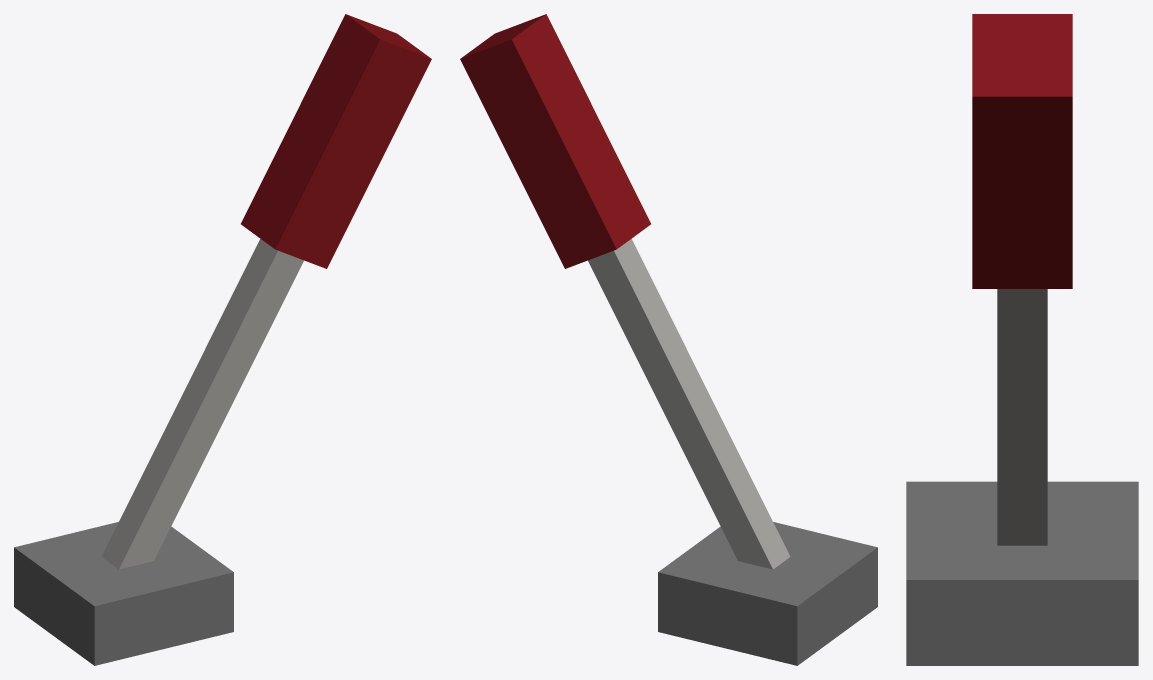
File: schalter01.fbx
3 renders of one model, left to right at view 1: azimuth 30°, elevation 25°; view 2: azimuth 150°, elevation 25°; view 3: azimuth 270°, elevation 25°, orthographic. The views are drawn at different scales.
Parts seen in each view (by area): view 1: animation, Cube.001; view 2: animation, Cube.001; view 3: animation, Cube.001.
Part boxes in pixels (left/top/right/bottom): animation: left=101, top=14, right=431, bottom=569; Cube.001: left=14, top=522, right=233, bottom=665; animation: left=460, top=14, right=790, bottom=569; Cube.001: left=658, top=522, right=877, bottom=665; animation: left=972, top=14, right=1072, bottom=545; Cube.001: left=906, top=481, right=1138, bottom=665.
Bounding box in the file's own units: 120 × 170 × 46.44.
